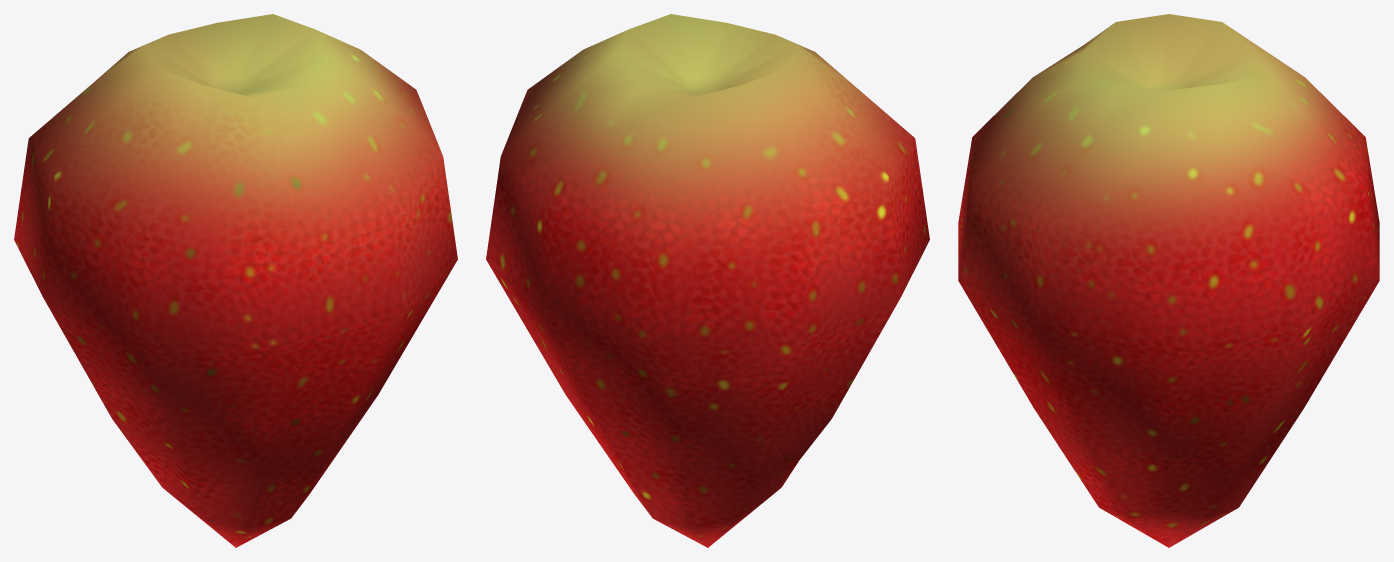
Rendered from strawremove.fbx.
The picture shows the model from 3 angles, left to right: view 1: azimuth 30°, elevation 25°; view 2: azimuth 150°, elevation 25°; view 3: azimuth 270°, elevation 25°; orthographic projection.
Visible parts, largest first — view 1: Strawberry001; view 2: Strawberry001; view 3: Strawberry001.
Boxes of the visible parts, box(x1,y1,x2,y2) form: Strawberry001: box(14, 14, 457, 547); Strawberry001: box(486, 14, 929, 547); Strawberry001: box(958, 14, 1379, 547).
Size of the model in its own units: 56.75 by 70.06 by 53.97.
